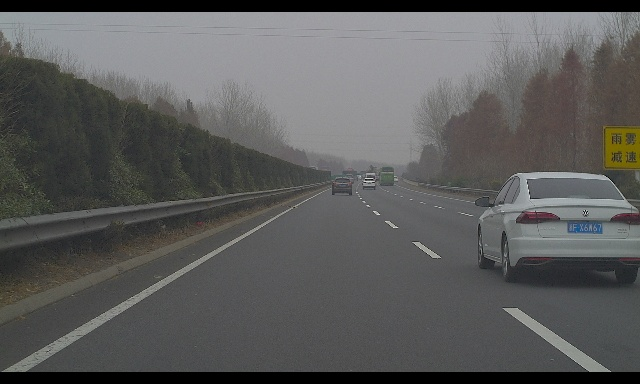bus: (378, 166, 394, 186)
car: (474, 172, 640, 282), (332, 177, 352, 195), (363, 178, 376, 190), (365, 173, 376, 185), (345, 174, 354, 184), (392, 176, 399, 182), (352, 175, 358, 181), (356, 175, 361, 180)
truck: (366, 165, 382, 181), (321, 166, 331, 177), (347, 168, 354, 175)
